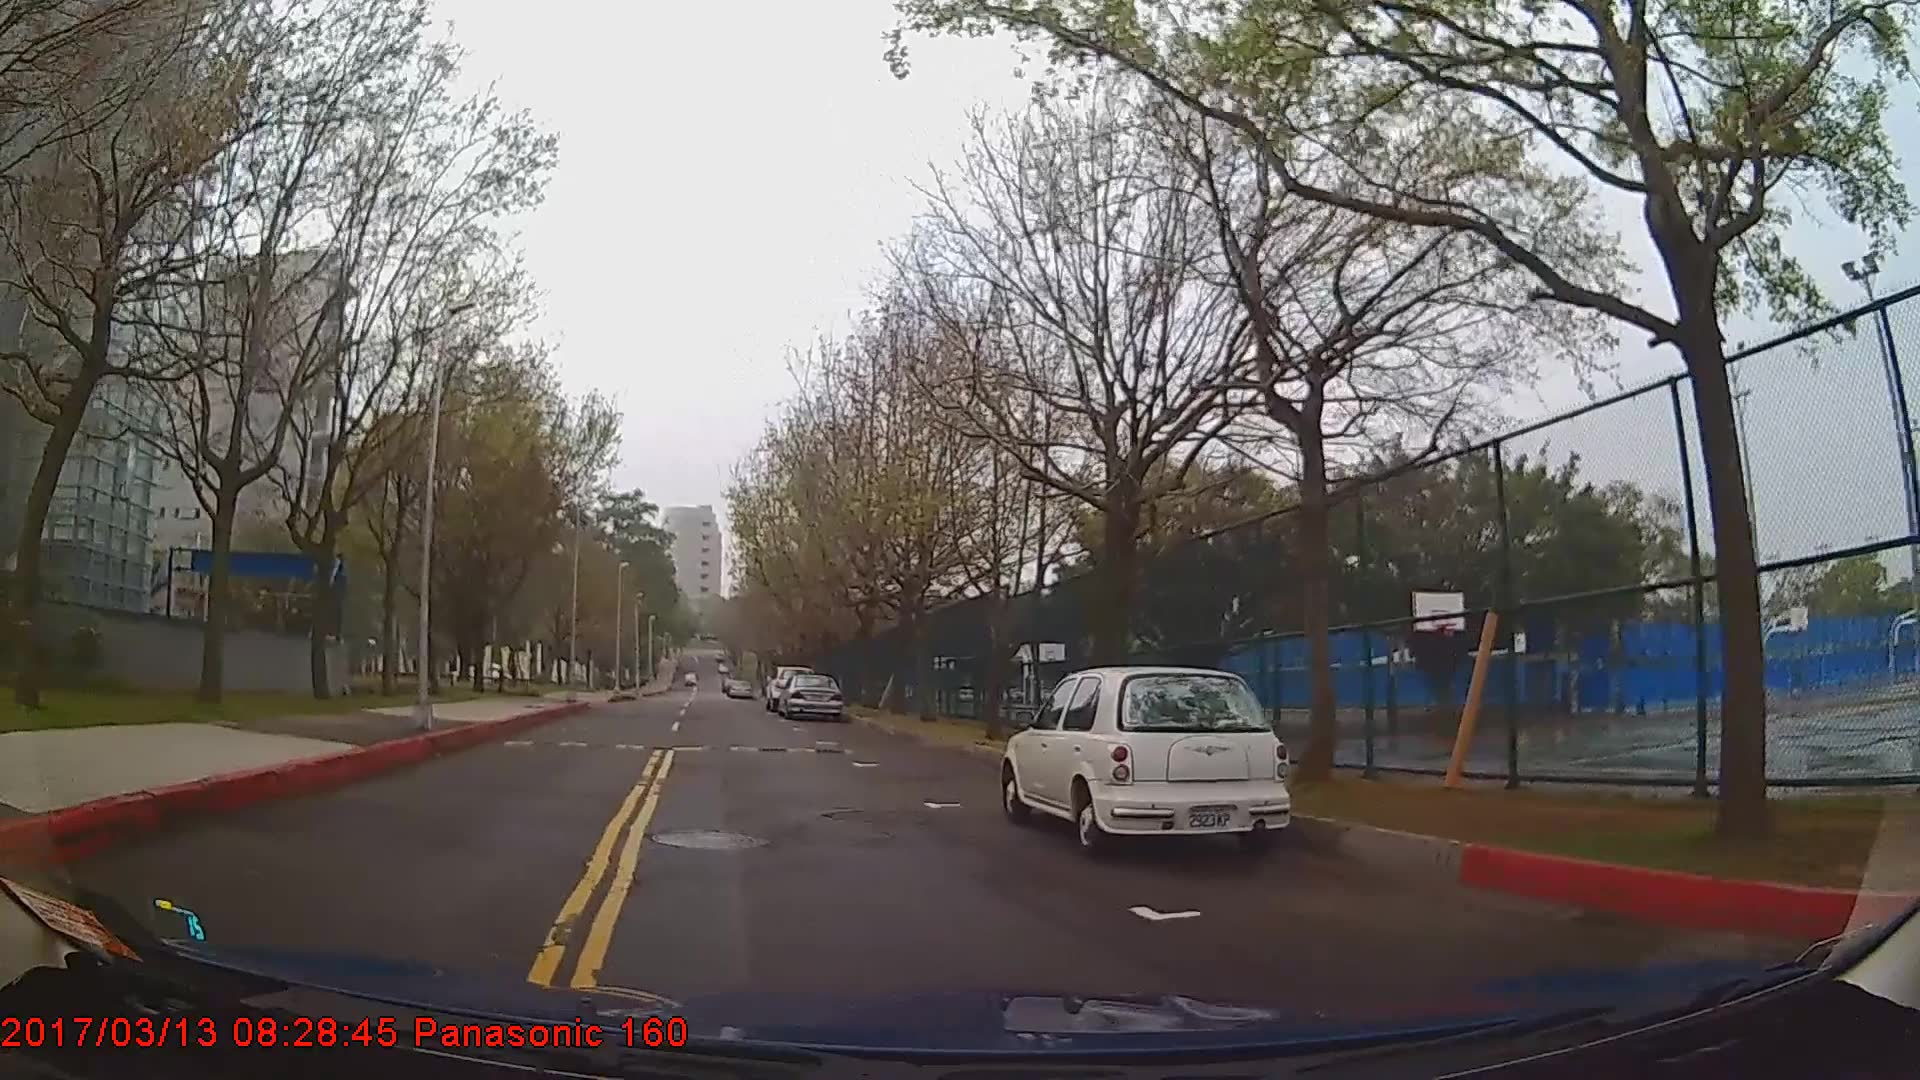vehicle: (996, 665, 1291, 858), (771, 671, 840, 719)
